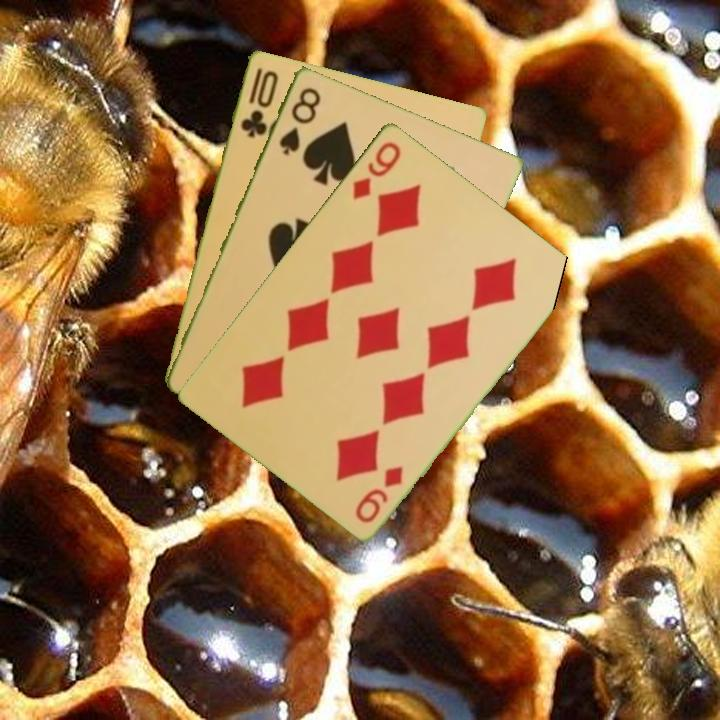10c: (237, 63, 281, 140)
8s: (275, 83, 324, 158)
9d: (348, 137, 404, 202), (351, 462, 406, 526)
